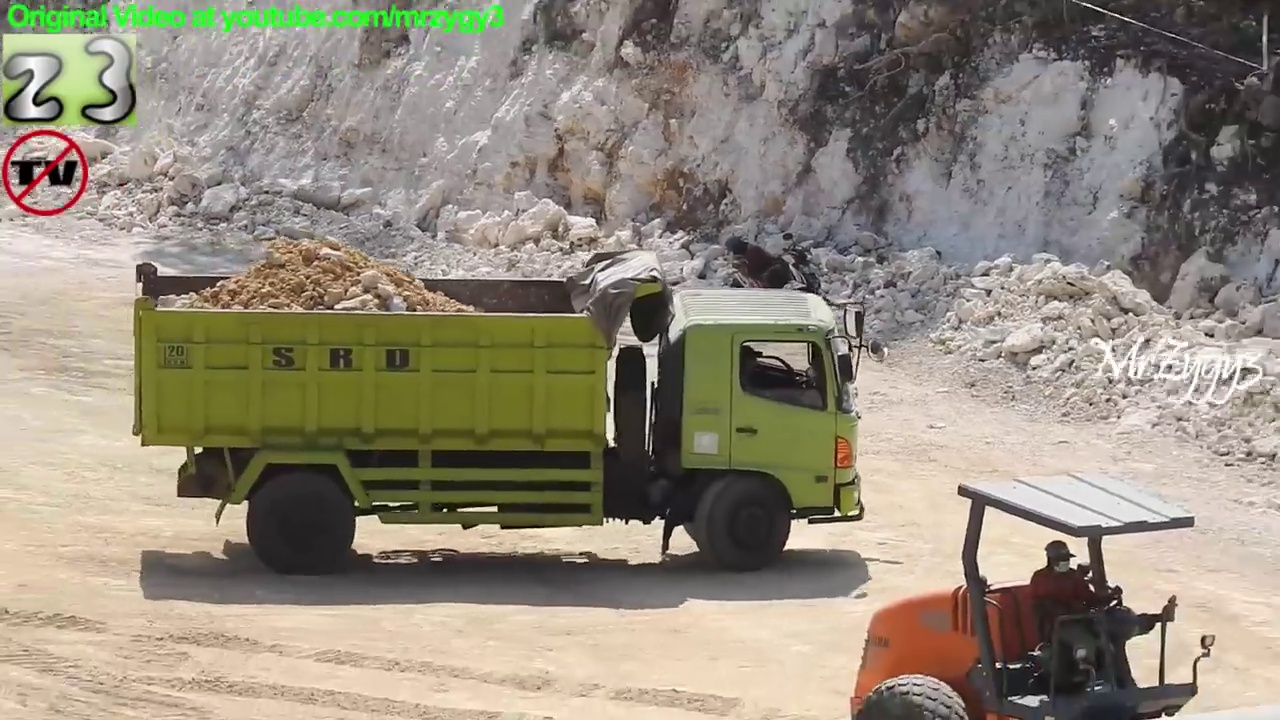compactor: (846, 465, 1278, 720)
truck: (126, 247, 893, 579)
